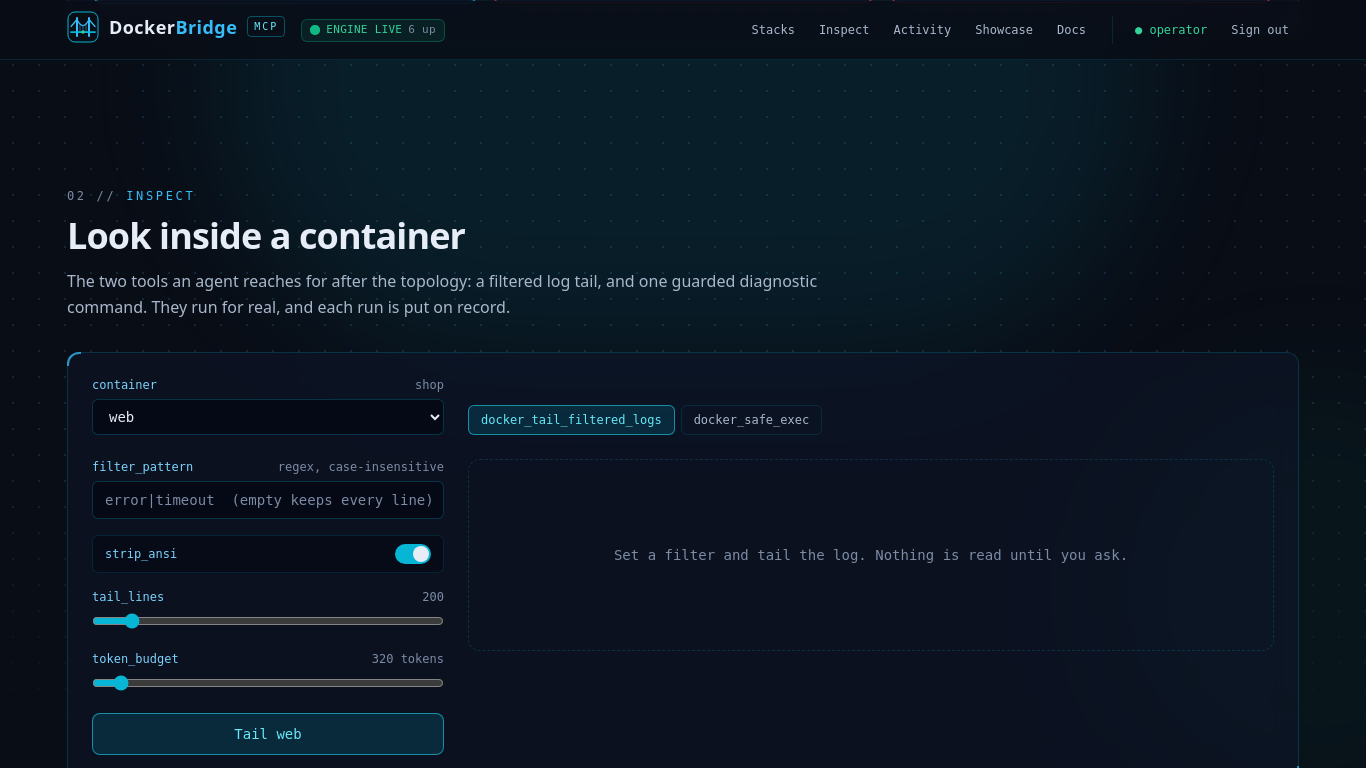
running a command › will not submit an empty command
(page scrolled)
expect the dropdown labelled "container shop" is shown: met, box 92,399 -> 444,435
Step 1. Click the tab "docker_safe_exec" → (751, 420), box 681,405 -> 822,435
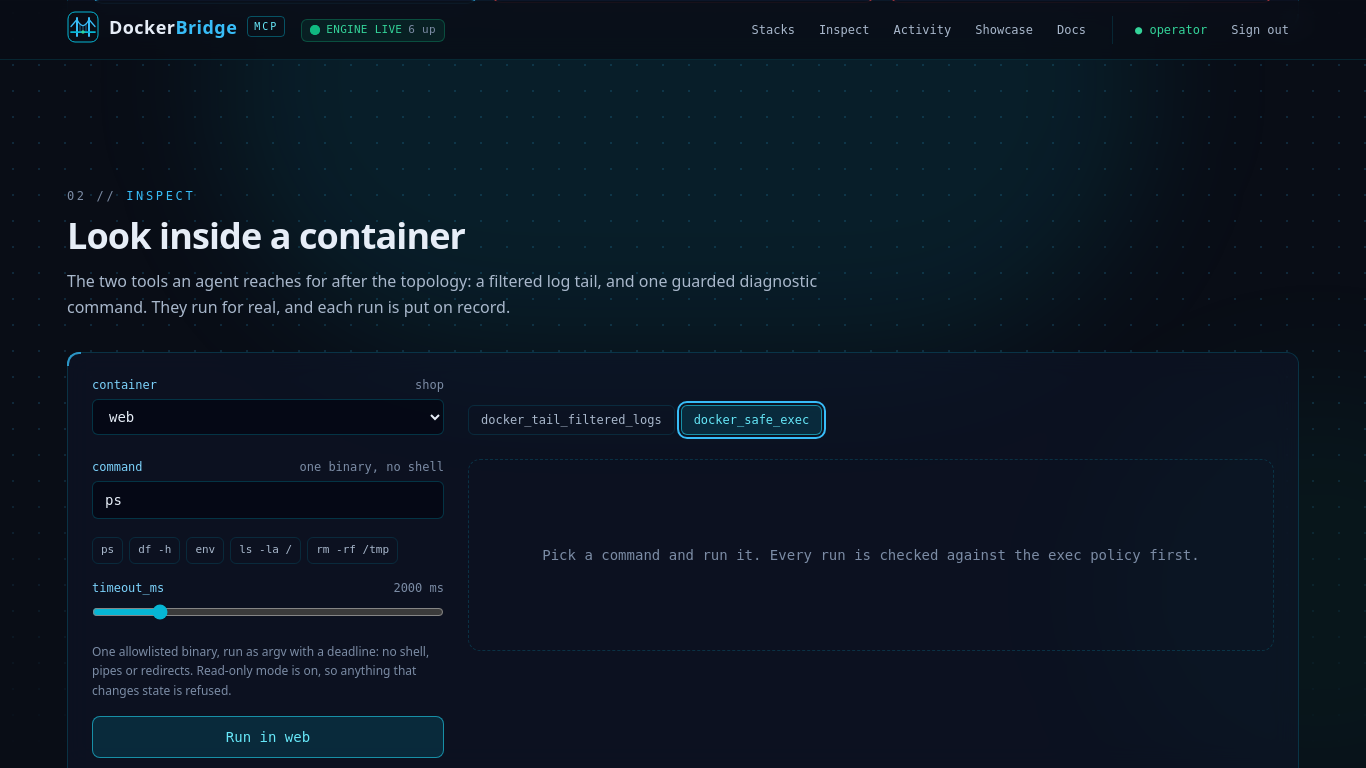
Step 2. Clear the field labelled "command one binary, no shell" → (268, 500), box 92,481 -> 444,519
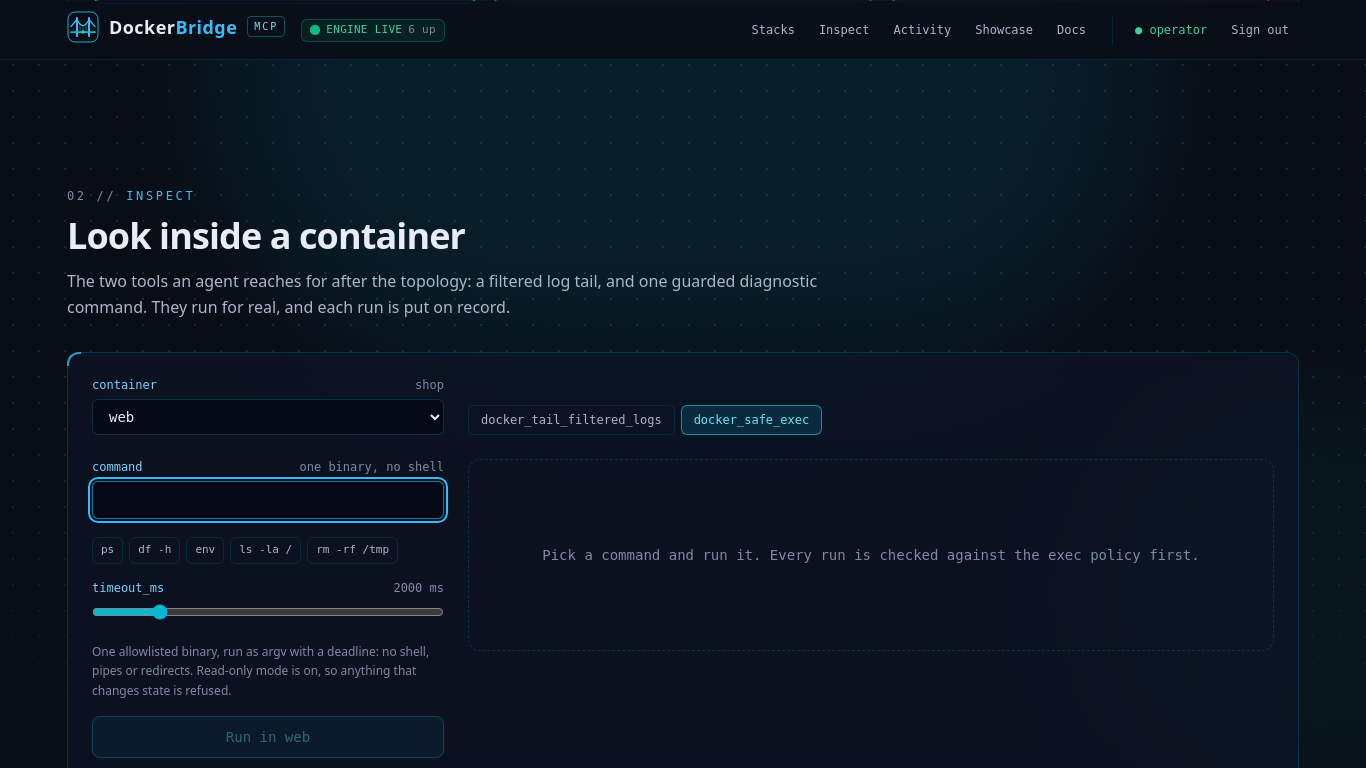
expect the button "Run in web" is disabled: met, box 92,716 -> 444,758
